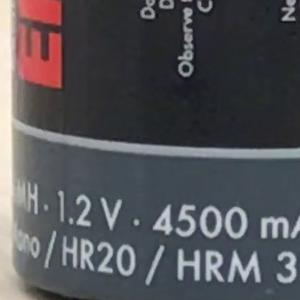HR20: (53, 235, 145, 277)
